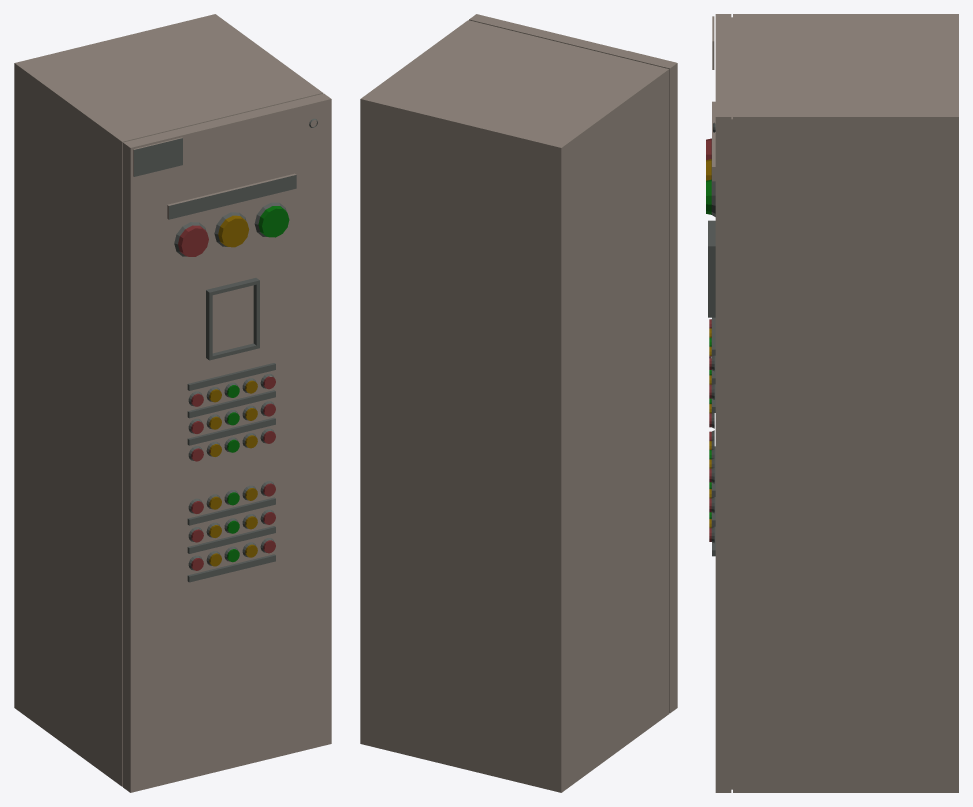
The model's file is Panel.fbx.
3 renders of one model, left to right at view 1: azimuth 30°, elevation 25°; view 2: azimuth 150°, elevation 25°; view 3: azimuth 270°, elevation 25°, orthographic. The views are drawn at different scales.
Visible parts, largest first — view 1: panel, small_lights, big_lights; view 2: panel; view 3: panel, small_lights, big_lights.
Boxes of the visible parts, box(x1,y1,x2,y2) form: panel: box(14, 14, 331, 792); small_lights: box(188, 373, 275, 570); big_lights: box(174, 202, 289, 256); panel: box(360, 14, 677, 792); panel: box(708, 14, 958, 792); small_lights: box(709, 319, 714, 543); big_lights: box(706, 138, 715, 216).
Bounding box in the file's own units: 2 × 6.13 × 2.08.
